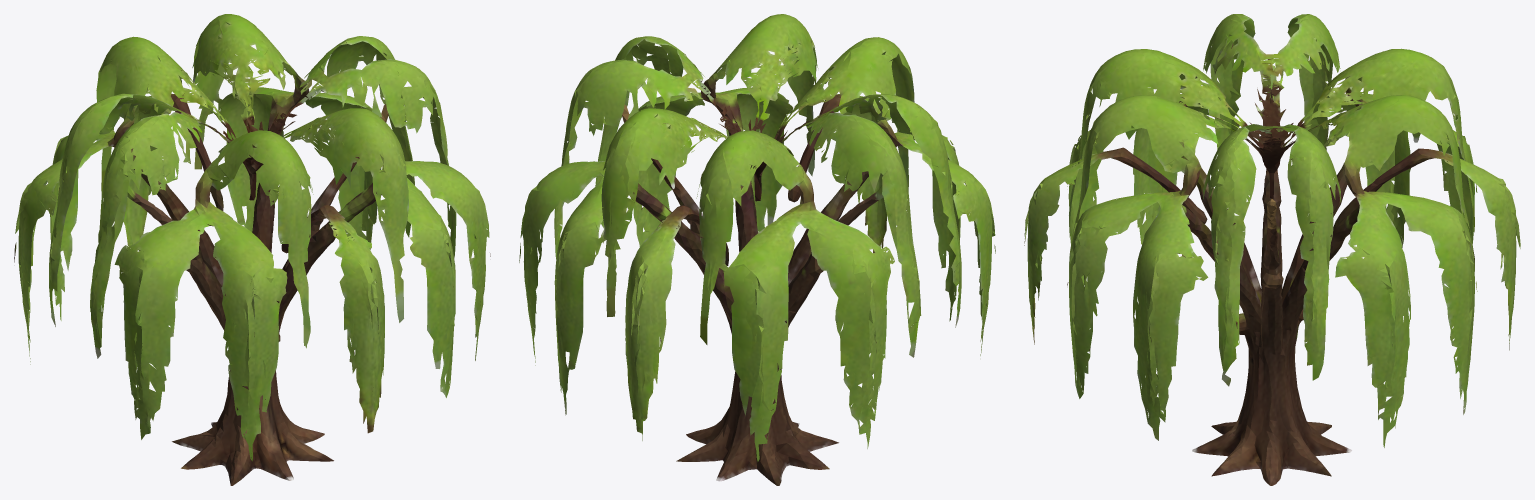
File: WillowTree.glb
3 renders of one model, left to right at view 1: azimuth 30°, elevation 25°; view 2: azimuth 150°, elevation 25°; view 3: azimuth 270°, elevation 25°, orthographic.
Visible parts, largest first — view 1: Willow2; view 2: Willow2; view 3: Willow2.
Part boxes in pixels (x1,y1,x2,y2): Willow2: [14, 14, 490, 485]; Willow2: [519, 14, 995, 485]; Willow2: [1024, 14, 1520, 485].
Size of the model in its own units: 1.61 by 1.59 by 1.89.
Materials: 1 (1 with a texture image).
